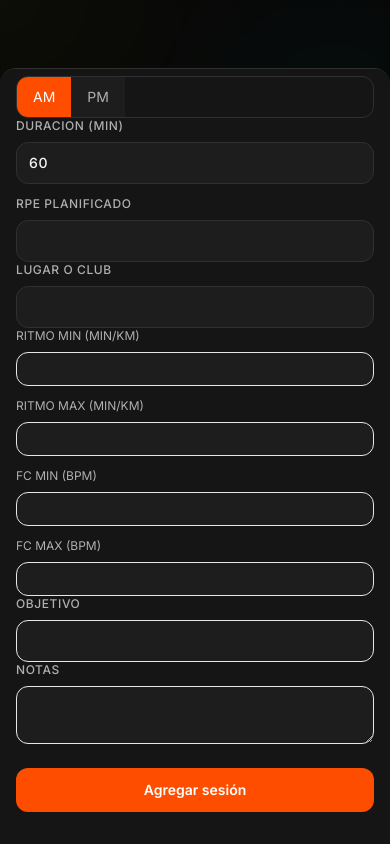
CoachSessionModal › un error permanece visible y rehabilita el submit
(page scrolled)
What coordinates should you click on to do the following:
click the button "Agregar sesión"
I would click on:
 (195, 790)
Its box is [16, 768, 374, 812].
(page scrolled)
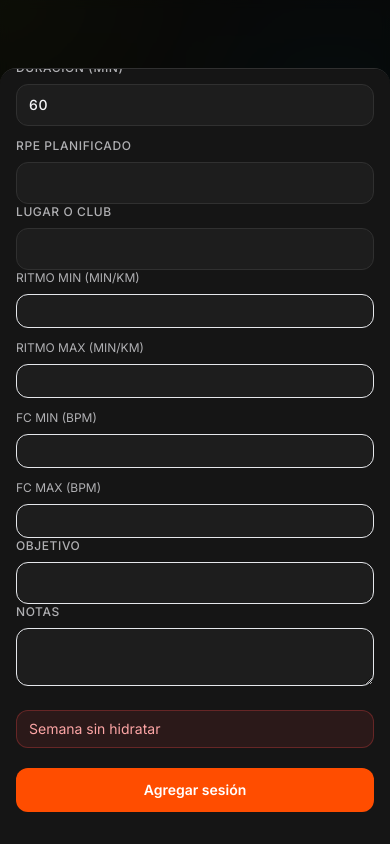
expect the message reads "Semana sin hidratar": met, box [29, 720, 160, 736]
